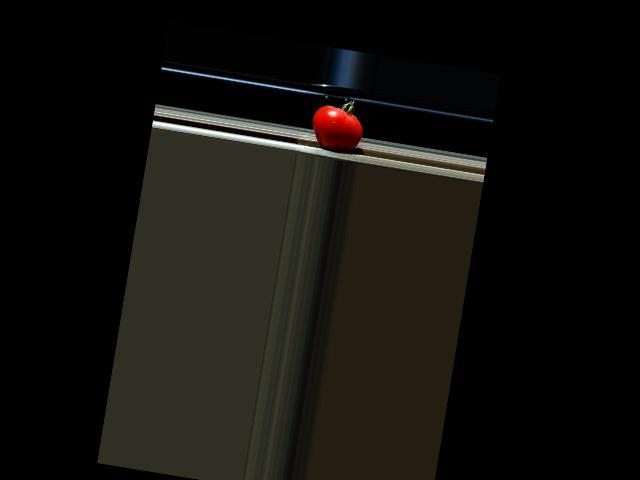tomato: (308, 94, 367, 154)
